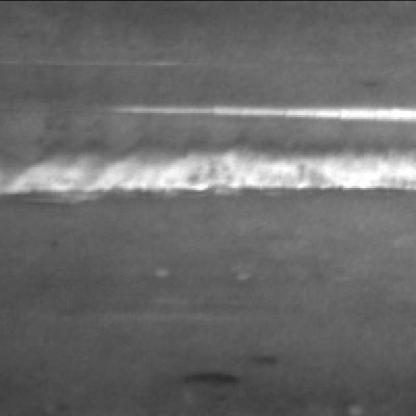inclusion: (187, 364, 248, 389)
scratches: (4, 135, 416, 196), (106, 95, 416, 123)
